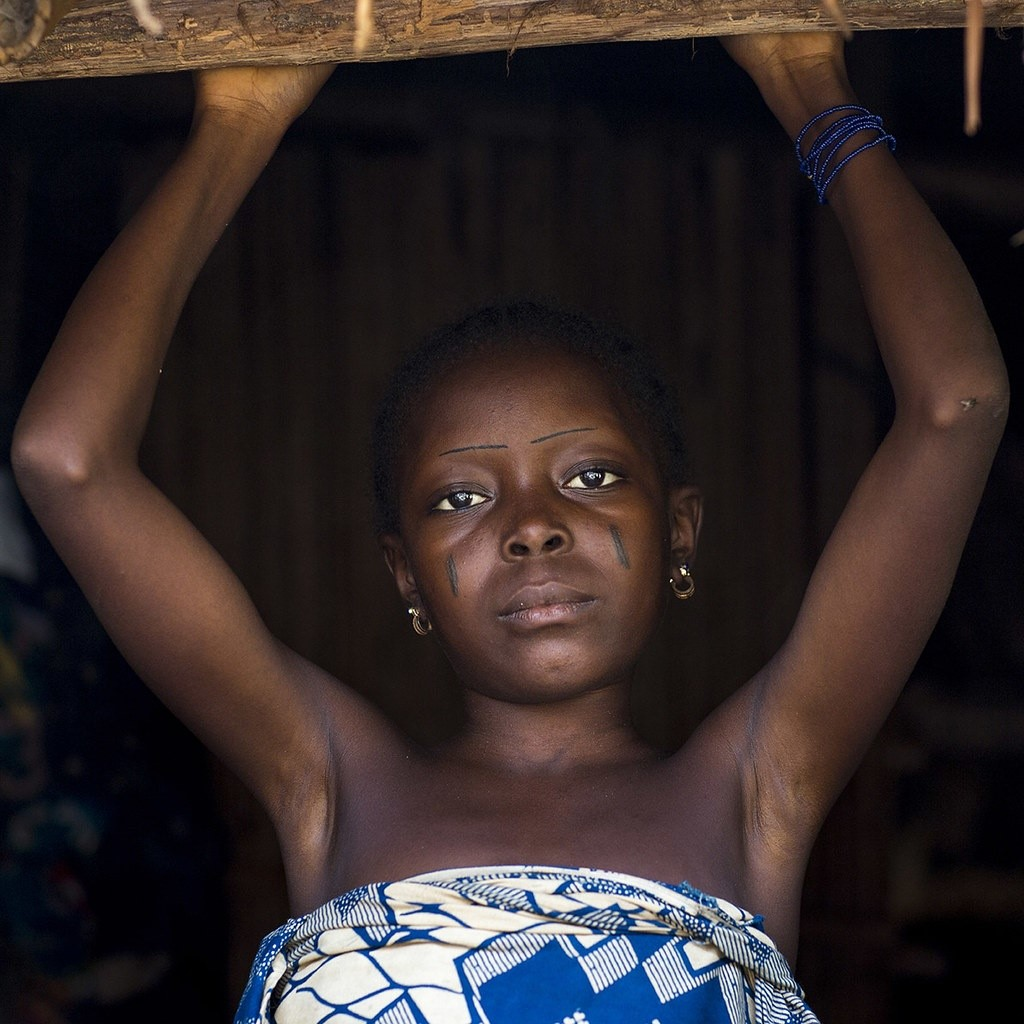face_no_mask: (375, 305, 705, 706)
